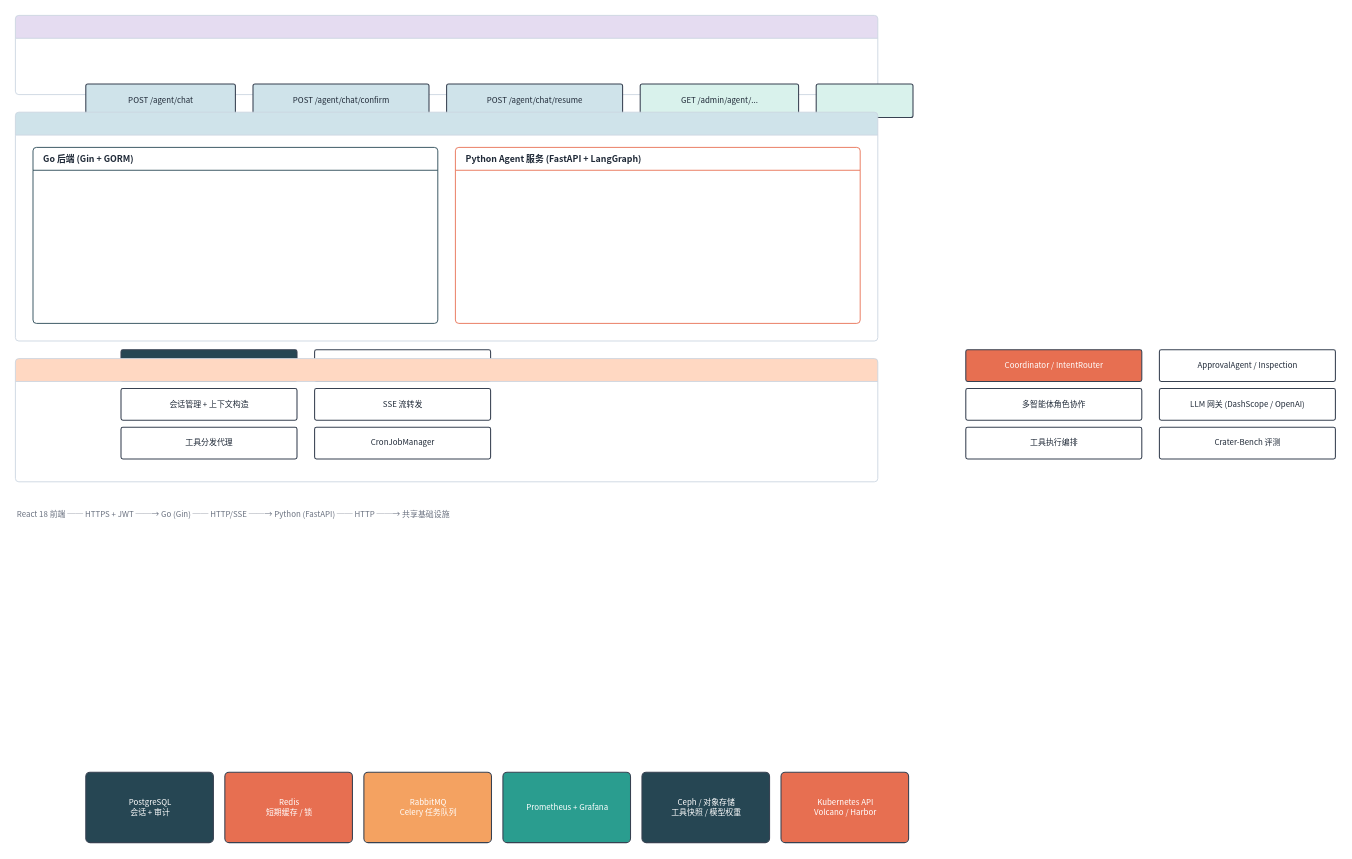
Image size: 1352x859. Some labels were removed from this diagram. Each missing label, with the box of its shape:
API 层 (Gin Router): (15, 15, 878, 95)
POST /pipeline/admin-ops-report: (815, 83, 913, 118)
共享基础设施: (15, 358, 878, 482)
应用逻辑: (15, 111, 878, 341)
